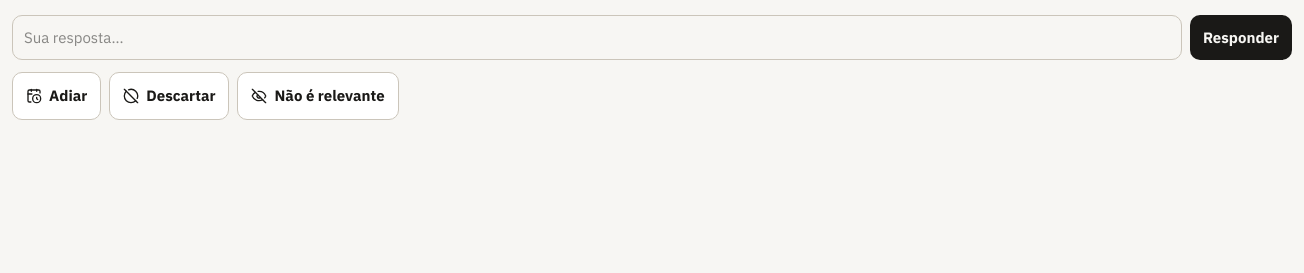
Test: QuestionAnswerForm › defers through the defer panel, converting the wall time in the profile timezone
Click the button "Adiar": point(57, 96) [12, 72, 101, 120]
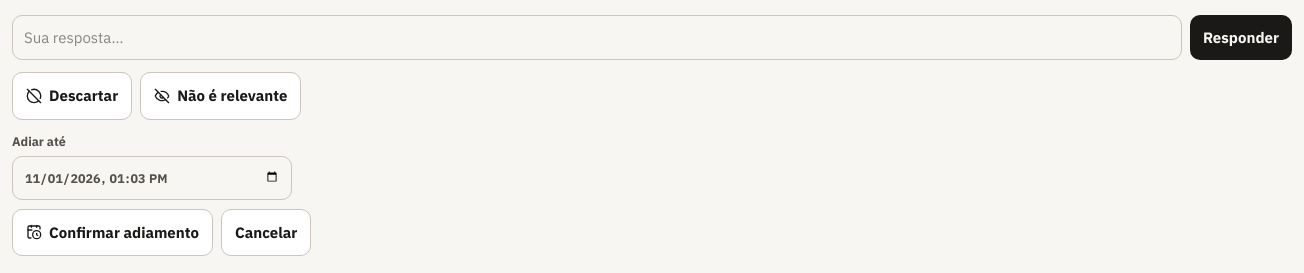
expect the field labelled "Adiar até" is not empty: met
// São Paulo is UTC-03: 12:30 wall time is 15:30Z.
Replace the text in the field labelled "Adiar até" with "2030-07-24T12:30": point(152, 178) [12, 156, 292, 200]
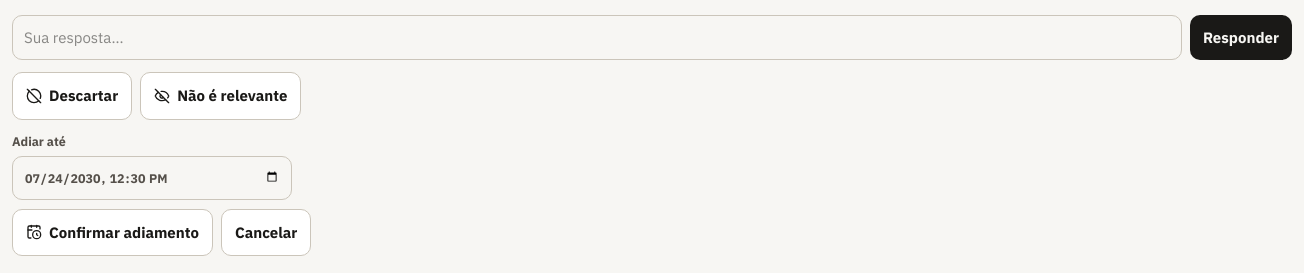
Click the button "Confirmar adiamento": point(112, 232) [12, 209, 213, 256]
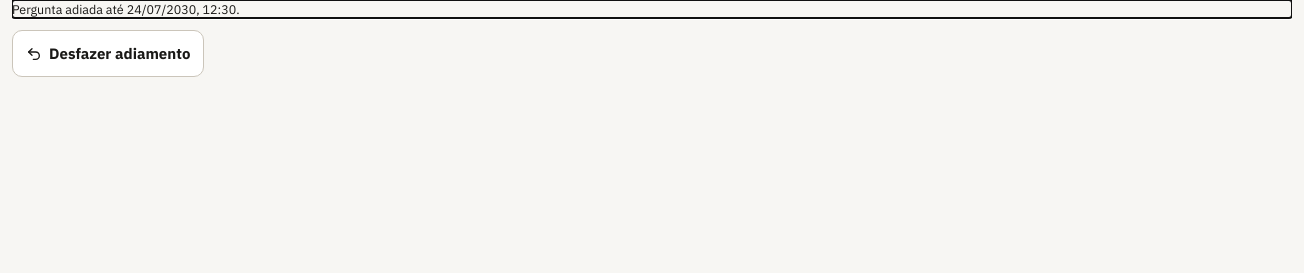
expect the message shows "Pergunta adiada até": met, box [12, 1, 240, 17]
expect the message shows "24/07/2030": met, box [12, 1, 240, 17]
expect the message shows "12:30": met, box [12, 1, 240, 17]
